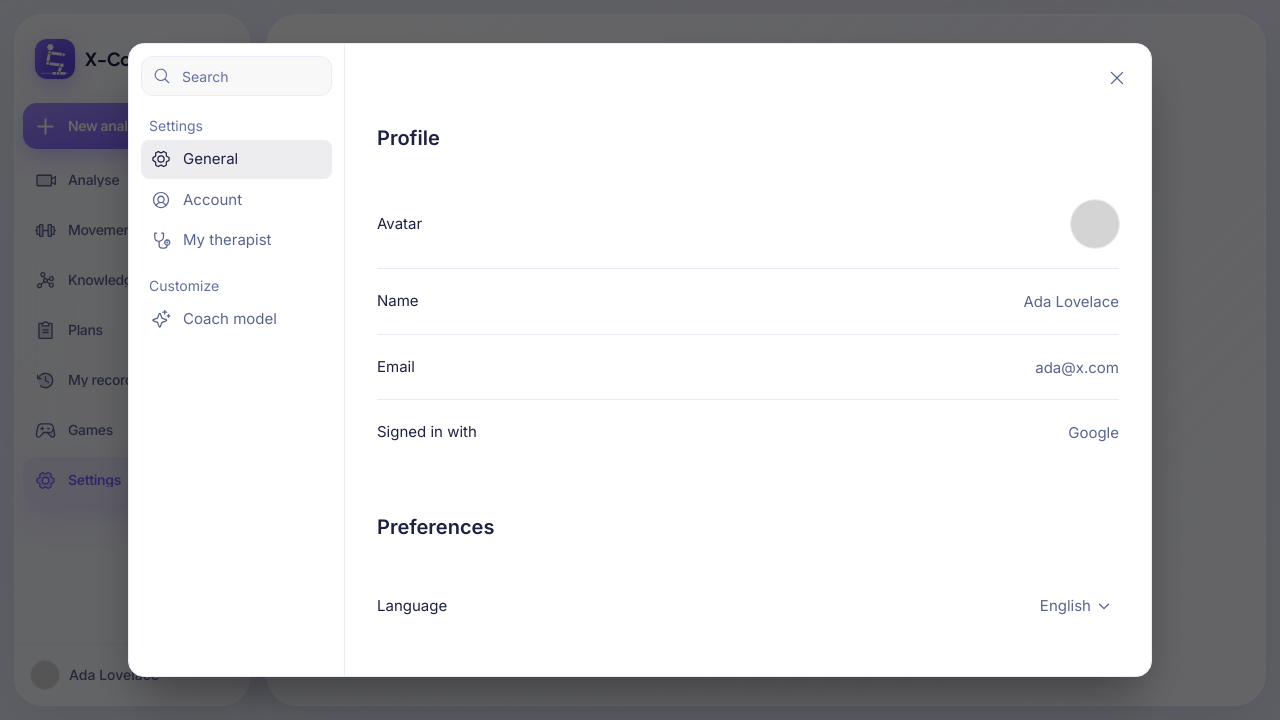
Scenario: Settings — popup shell › filters the rail by search, and says so when nothing matches
Type "coach" into the search field labelled "Search".
click(236, 76); type("coach")  # box [141, 56, 332, 96]
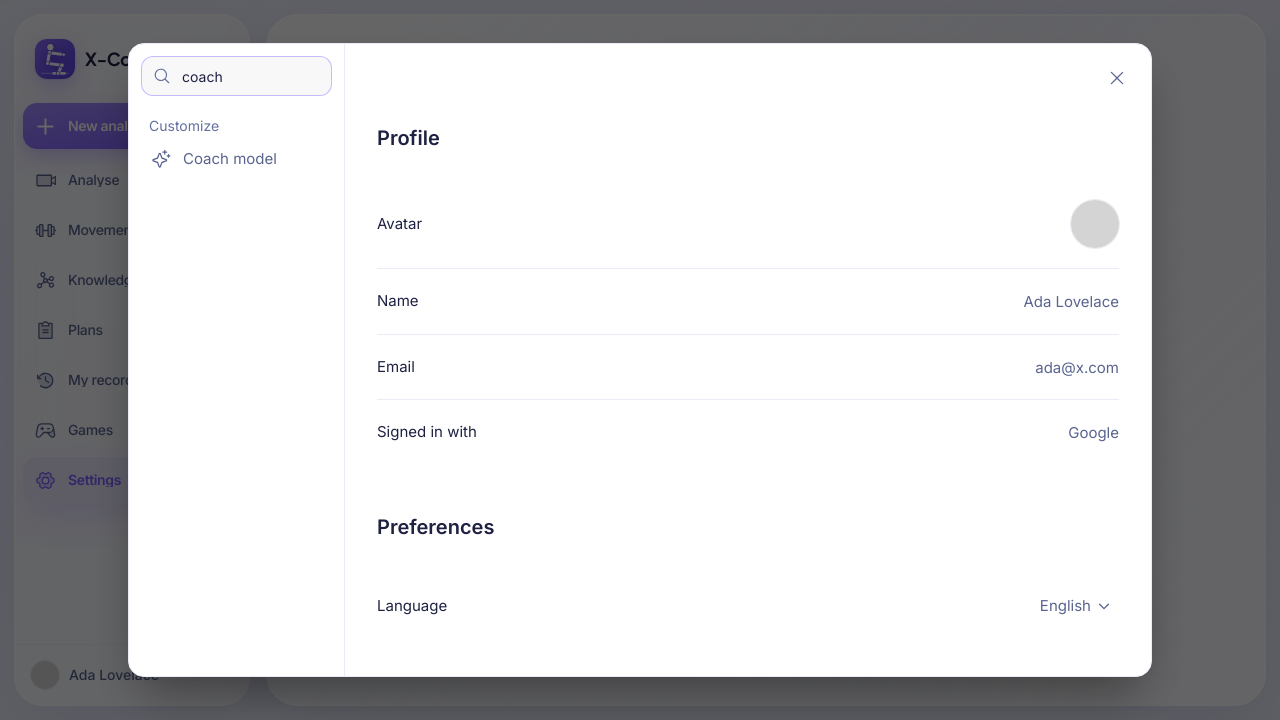
expect the button "Coach model" is shown: met, box [141, 140, 332, 179]
expect the button "Account" is gone: met
Replace the text in the search field named "Search" with "zzz" at point(236, 76), box [141, 56, 332, 96]
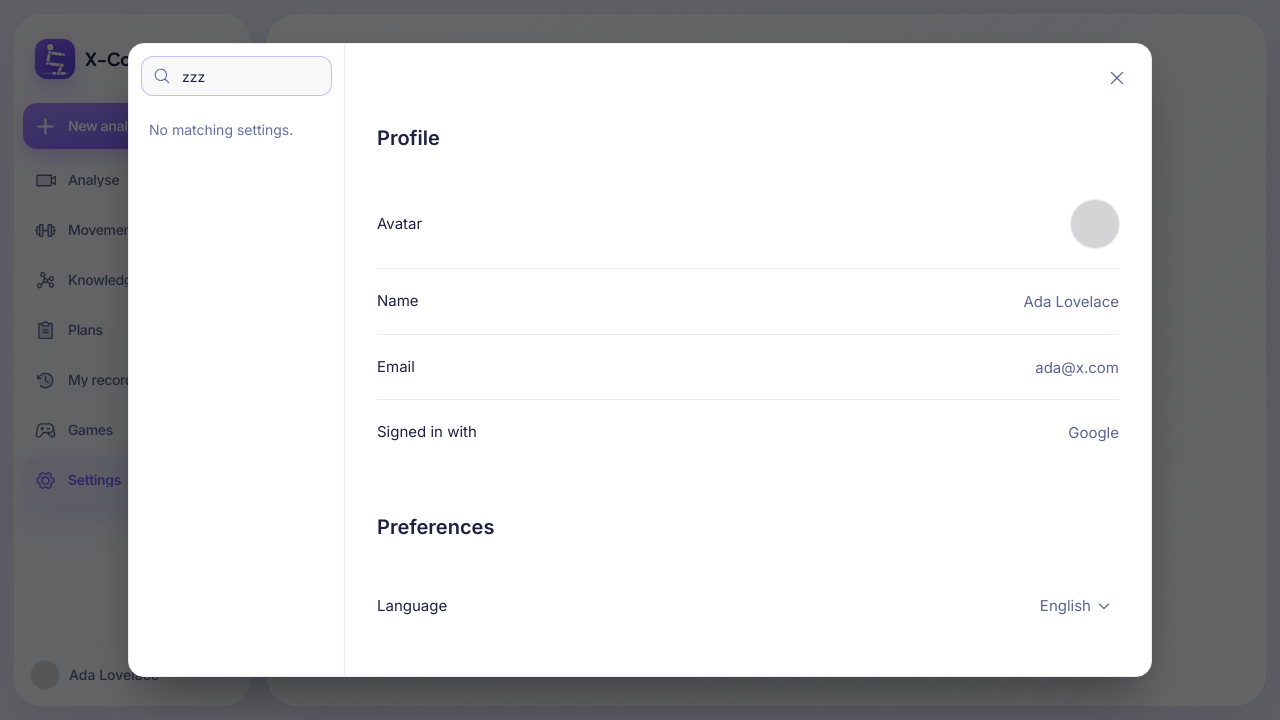
expect the text "No matching settings." is shown: met, box [149, 121, 293, 138]
